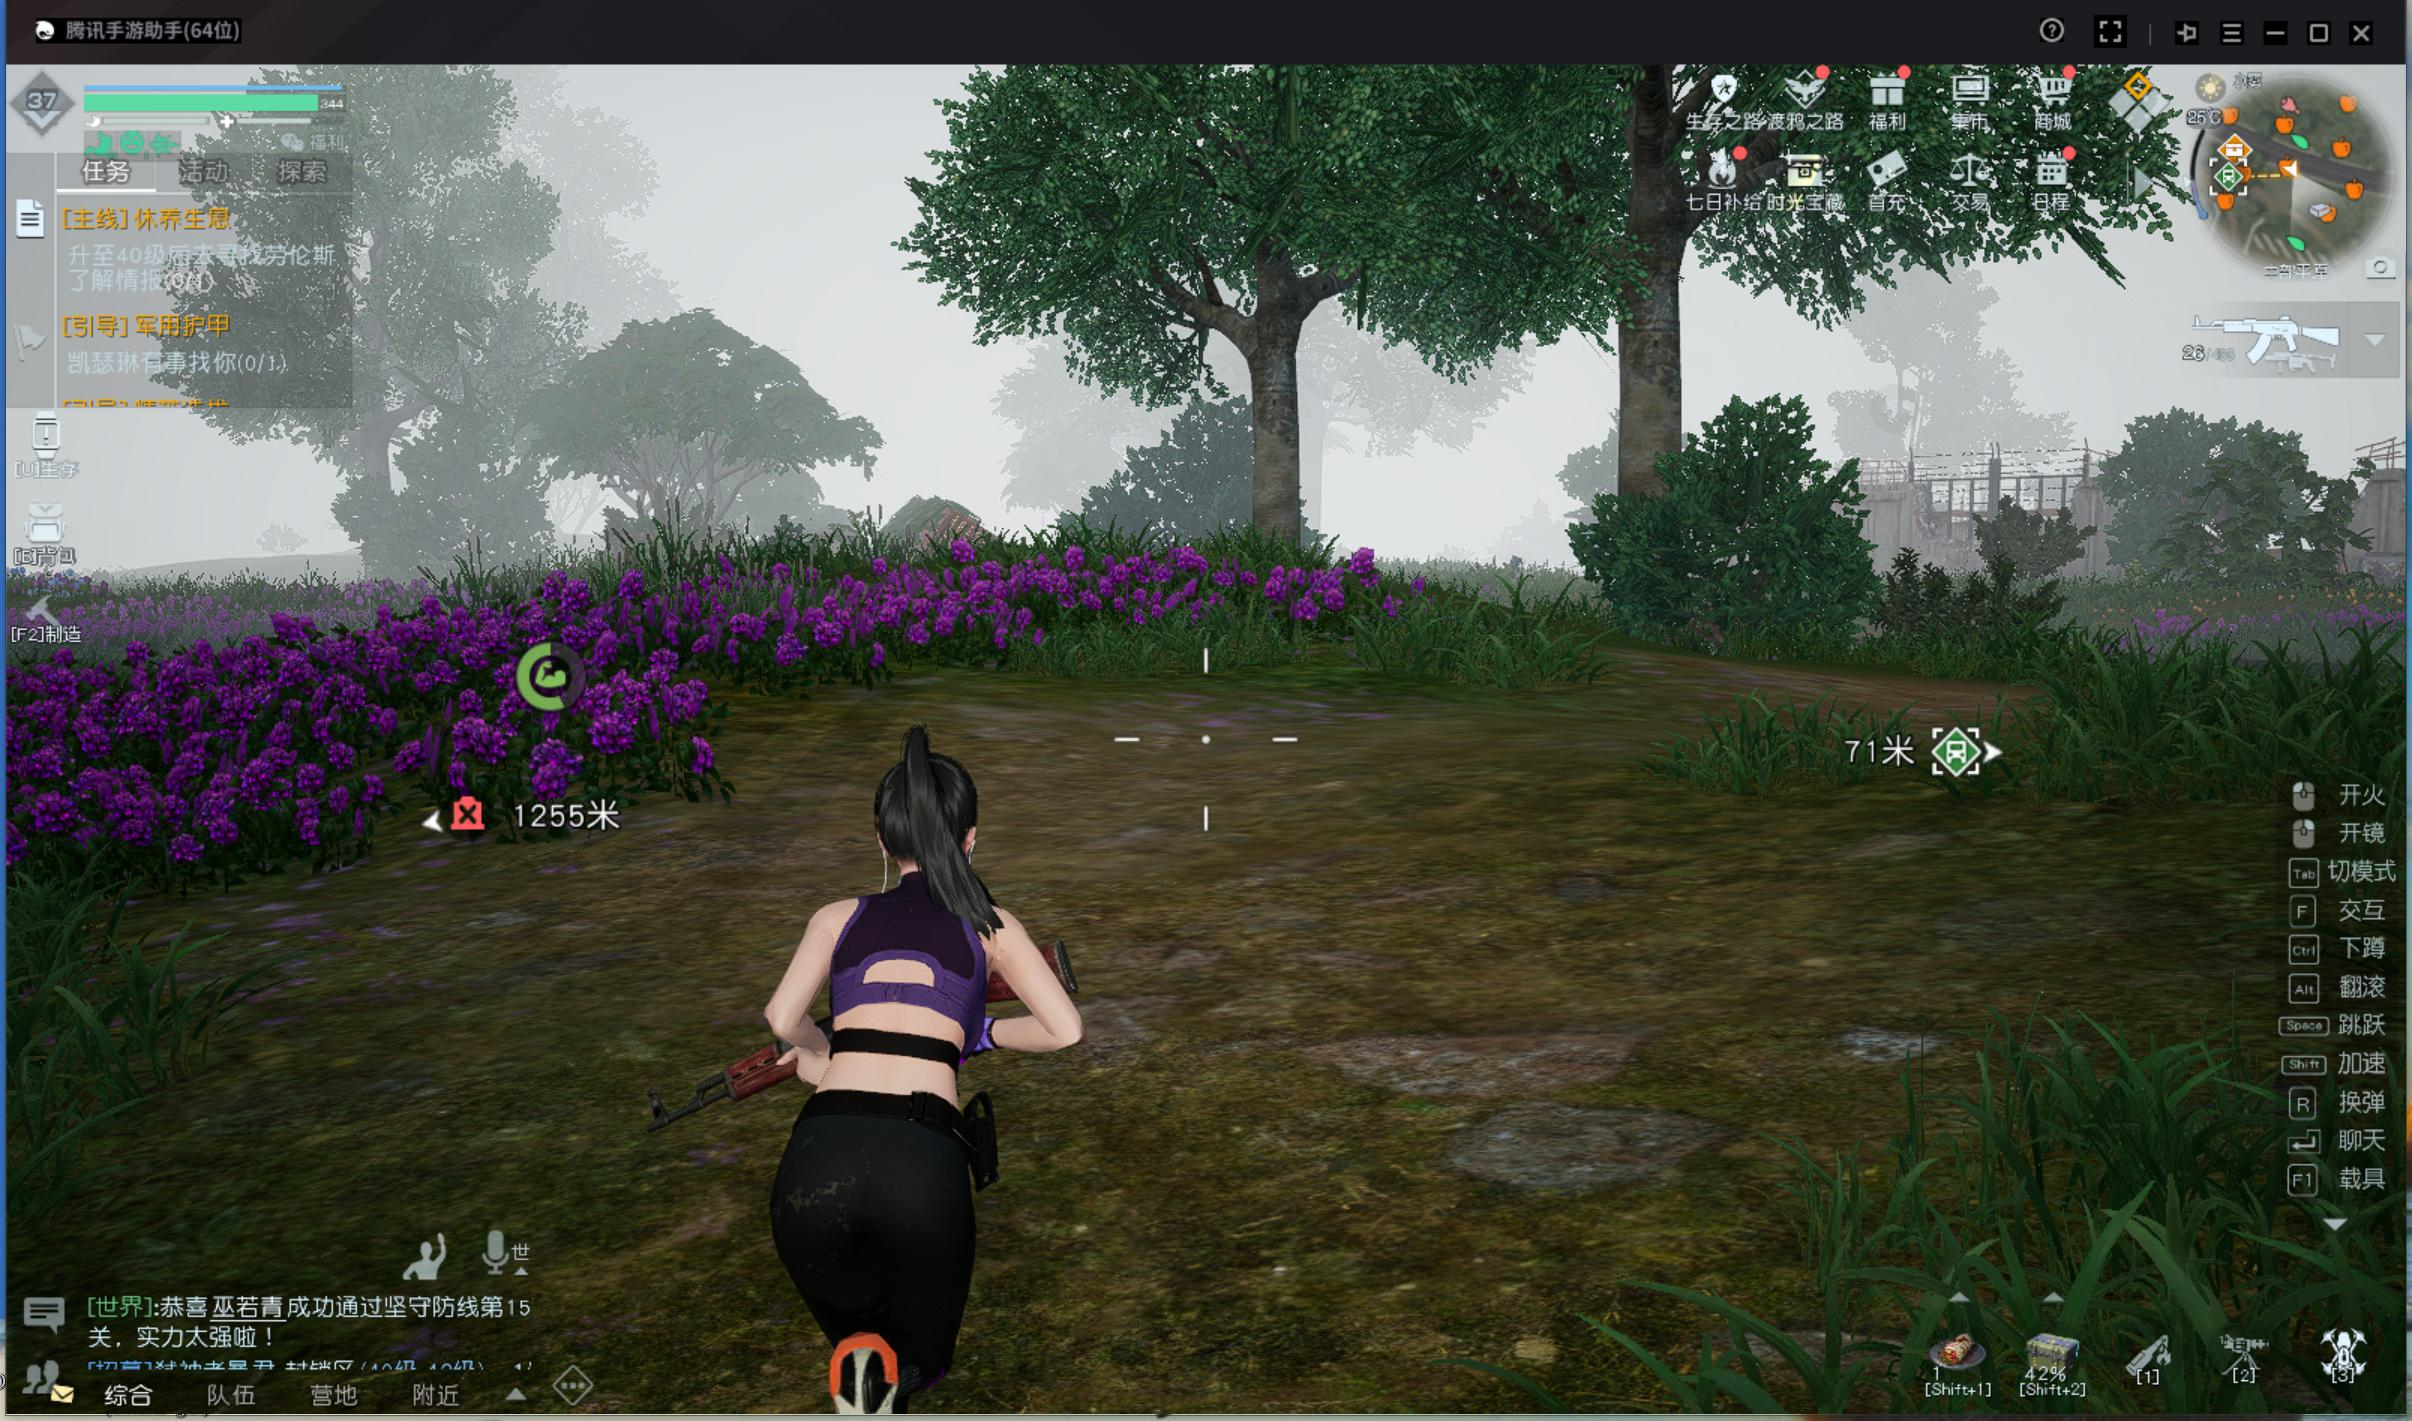tree: (1605, 321, 1707, 634), (1242, 360, 1318, 580)
